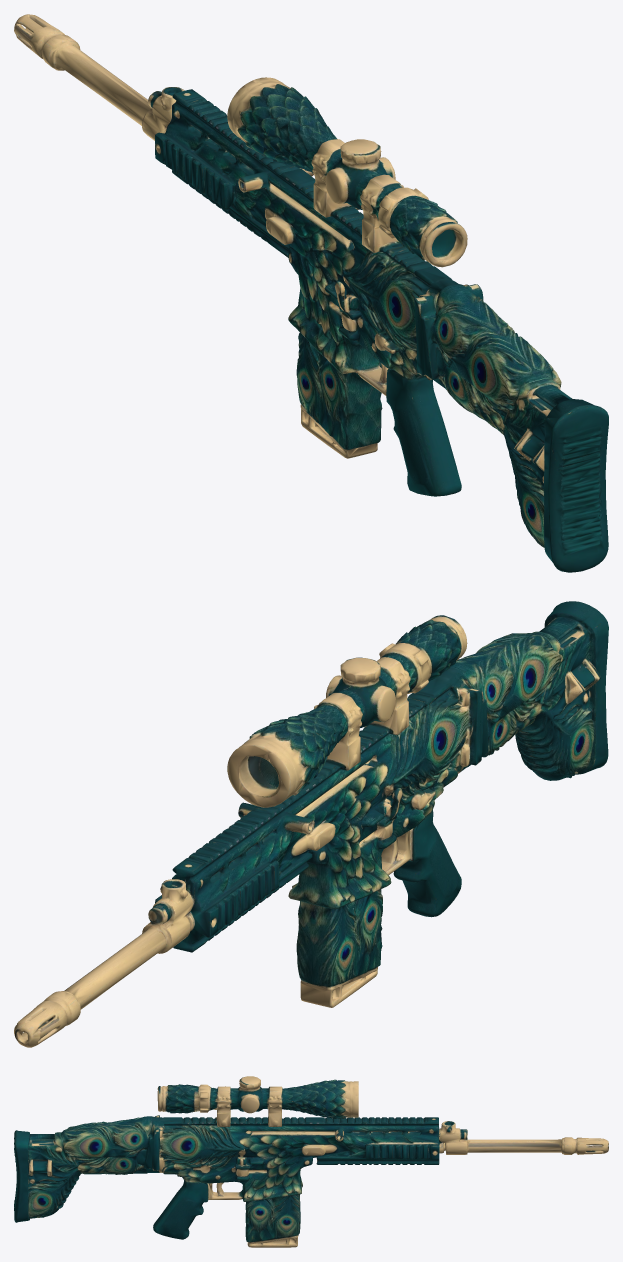
Rendered from scar20_tavus.glb.
3 views of the same model, one above another, from view 1: azimuth 30°, elevation 25°; view 2: azimuth 150°, elevation 25°; view 3: azimuth 270°, elevation 25° (orthographic). The views are drawn at different scales.
Parts seen in each view (by area): view 1: govde; view 2: govde; view 3: govde.
Part boxes in pixels (x1=…): govde: x1=14, y1=14, x2=608, y2=572; govde: x1=14, y1=601, x2=608, y2=1047; govde: x1=14, y1=1076, x2=608, y2=1247.
Bounding box in the file's own units: 0.0767 × 0.3254 × 1.07.
1 material, 1 textured.
